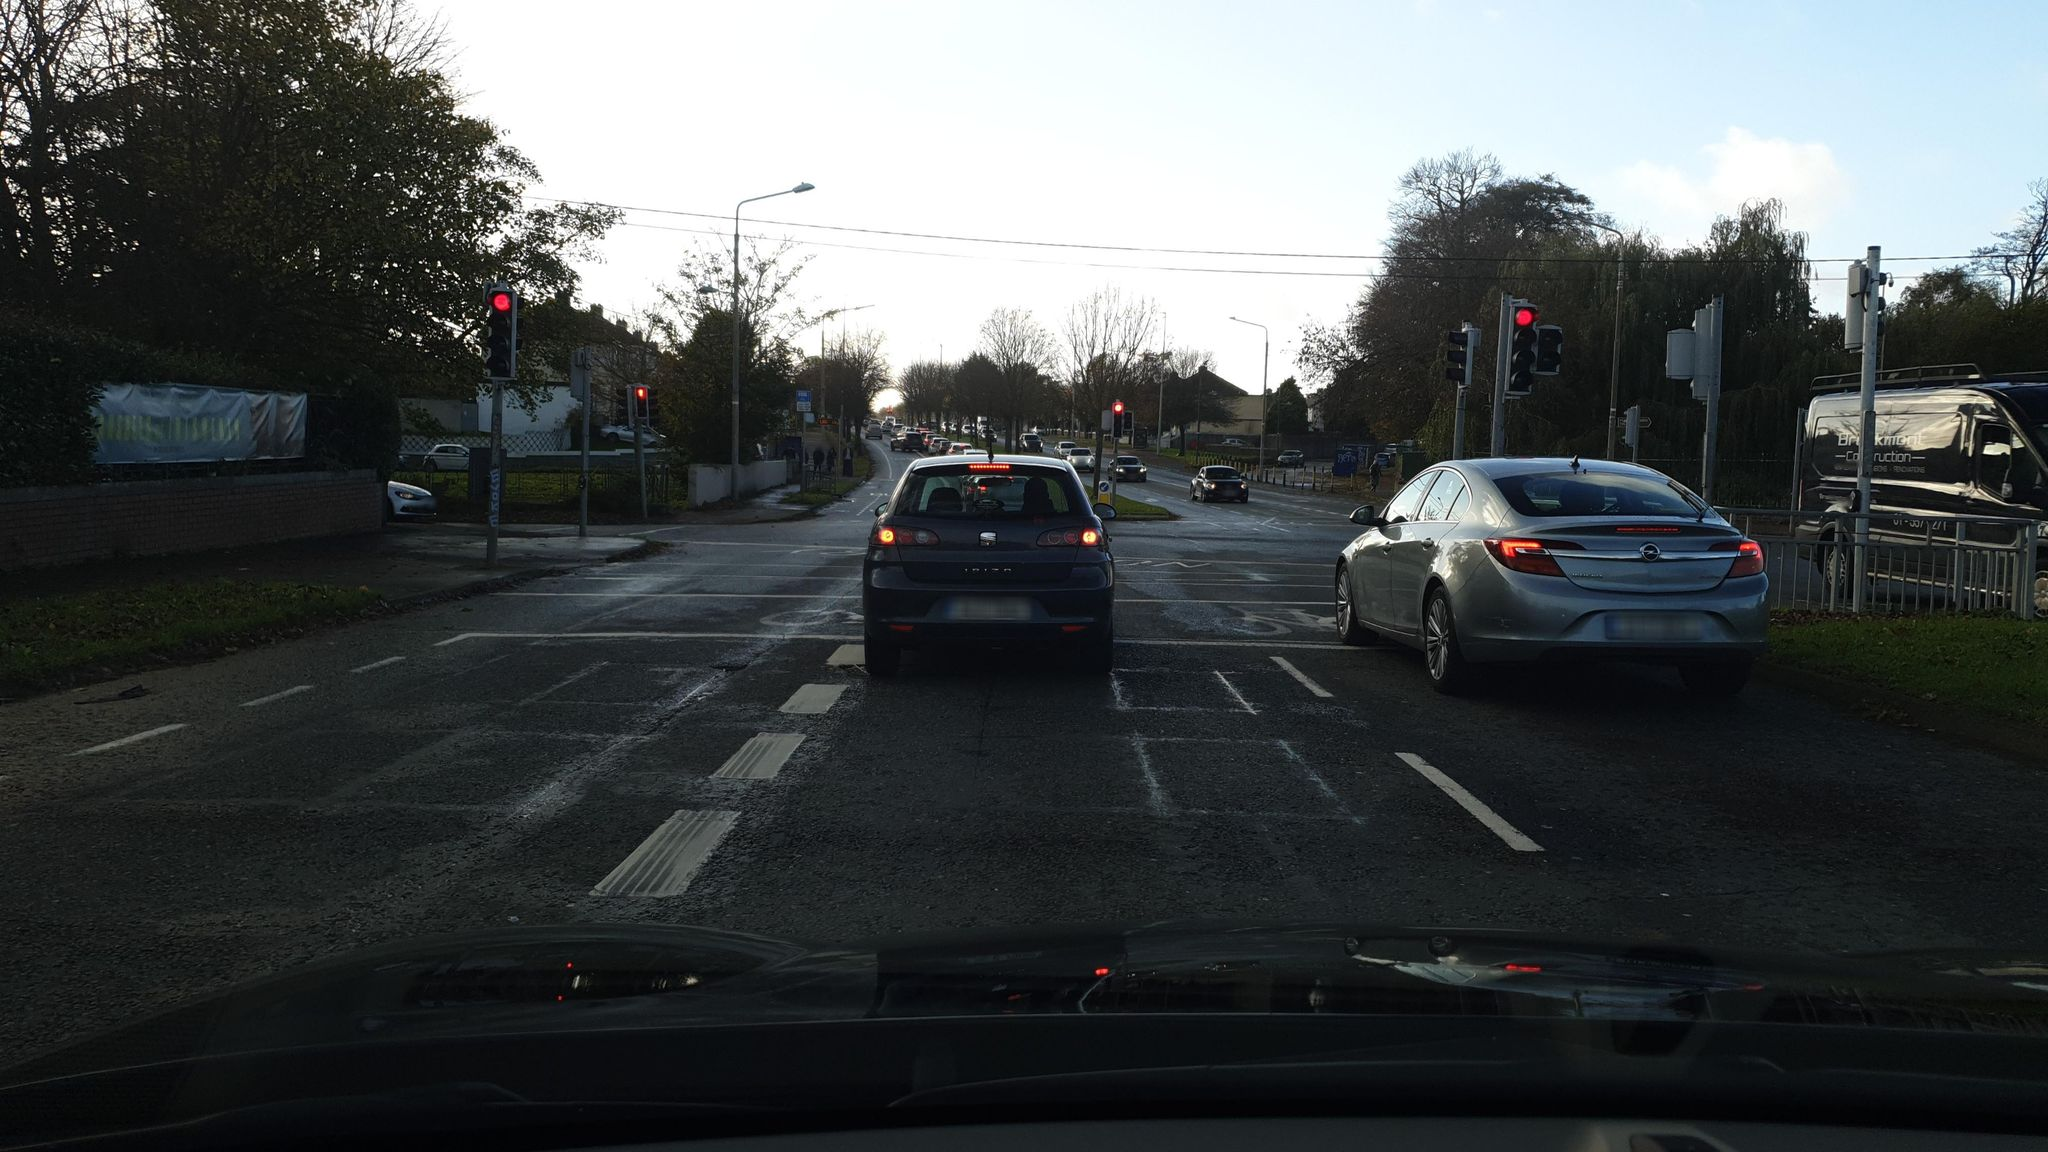vinyl banner: (73, 356, 316, 473)
